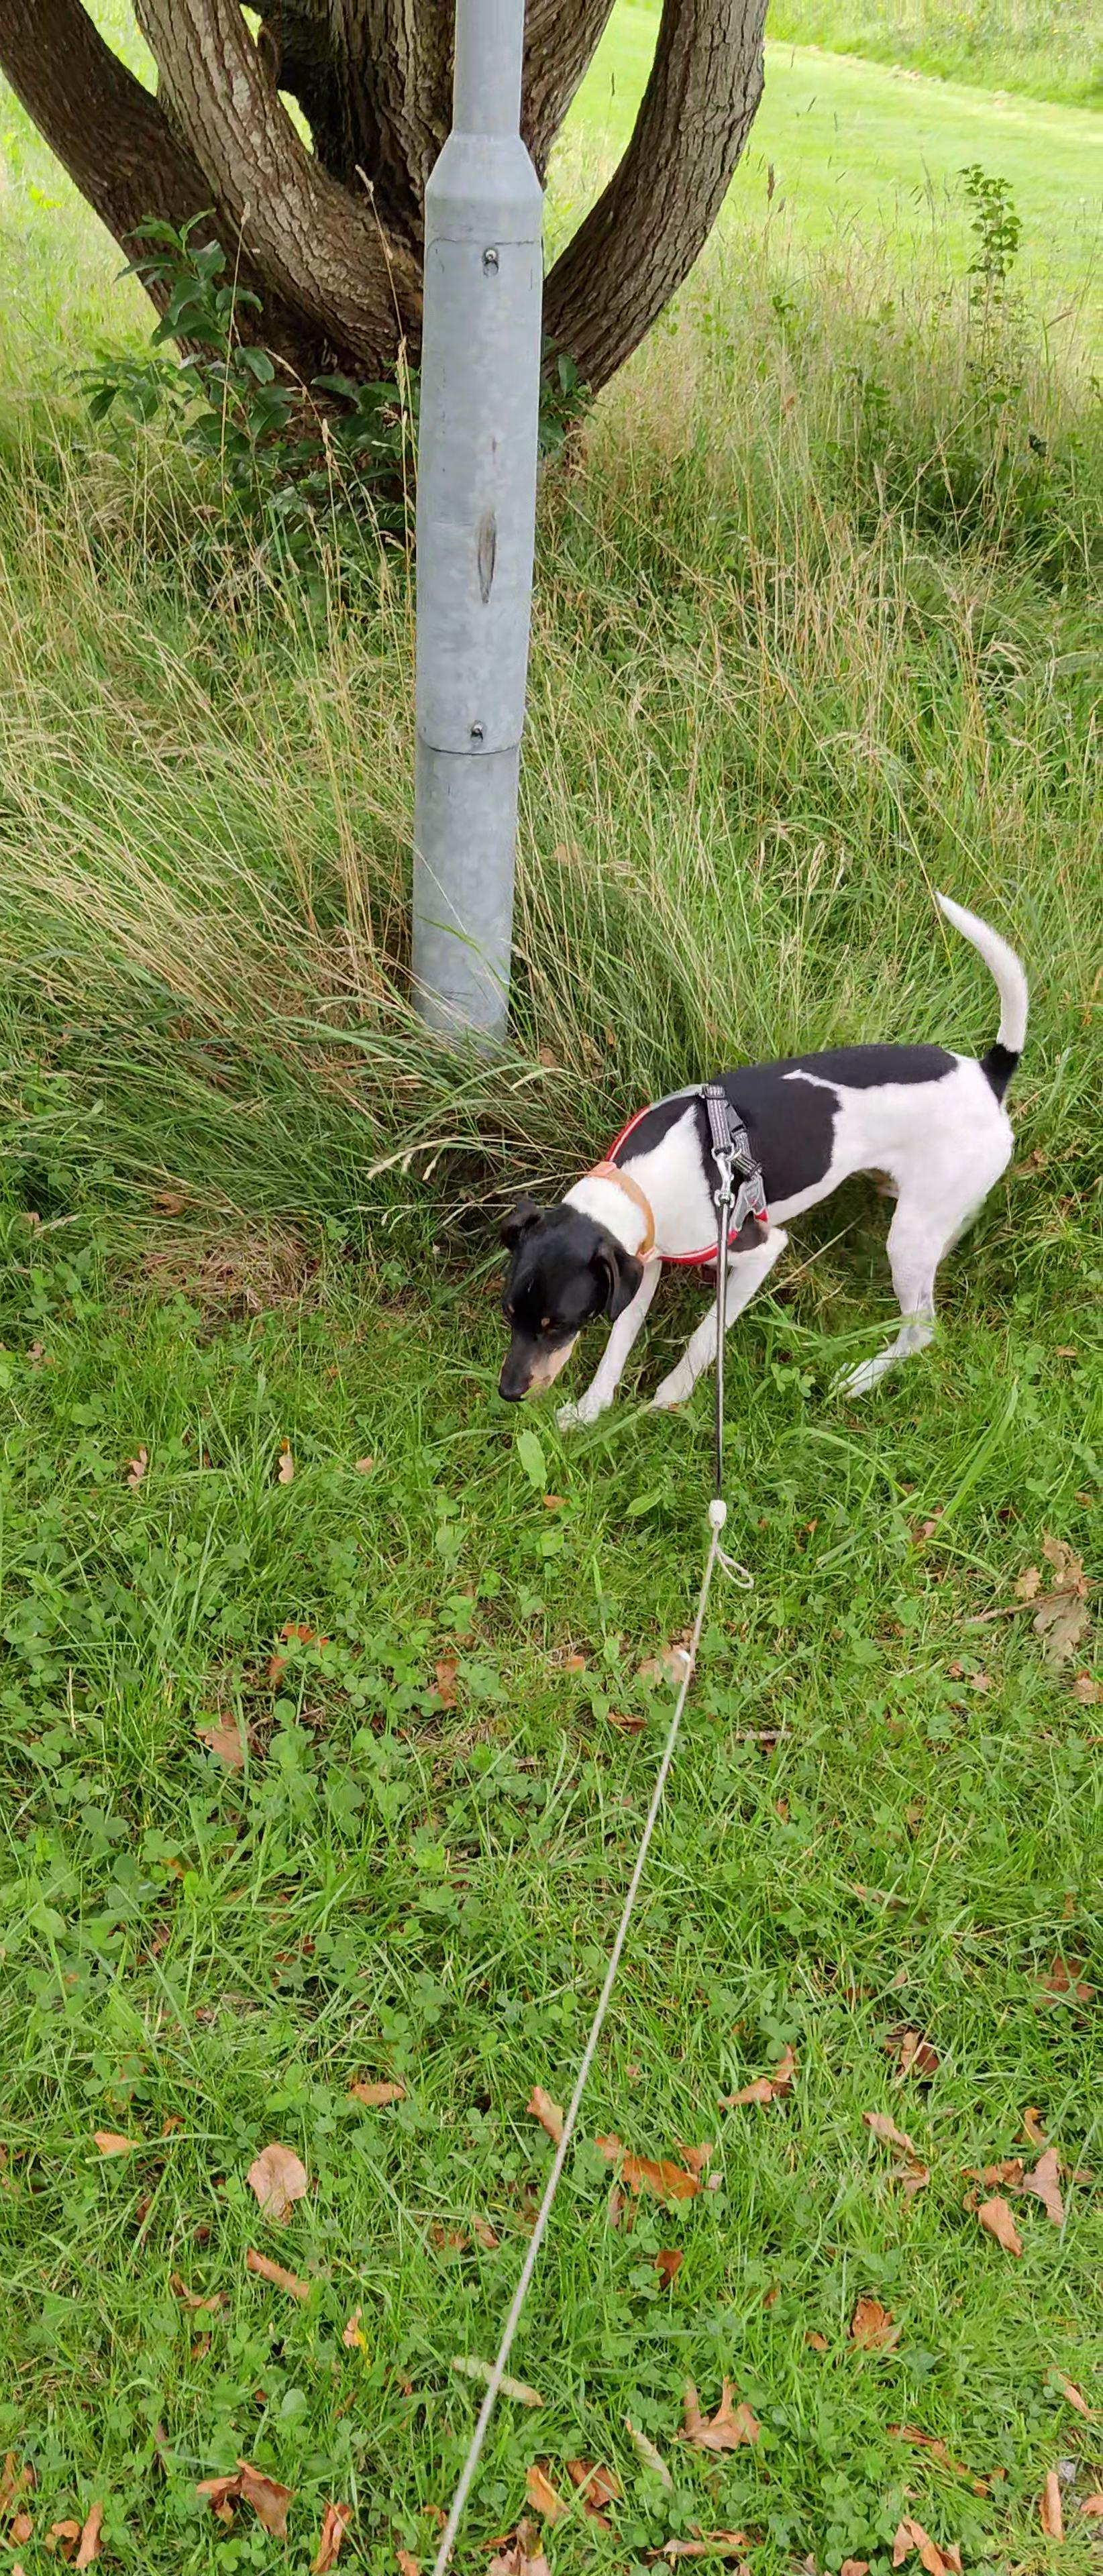Dog: (480, 887, 1041, 1426)
